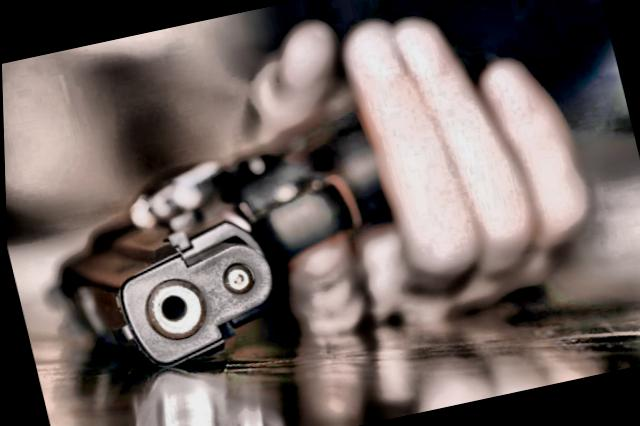pistol: (28, 90, 486, 386)
